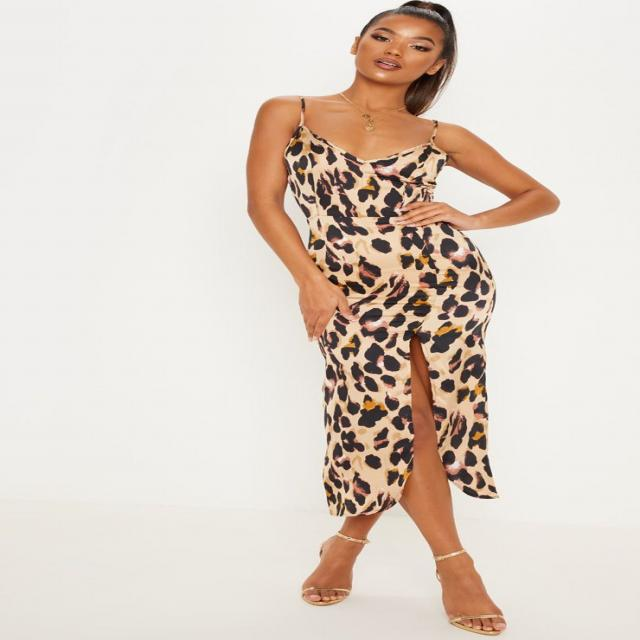clothes: (221, 110, 549, 538)
